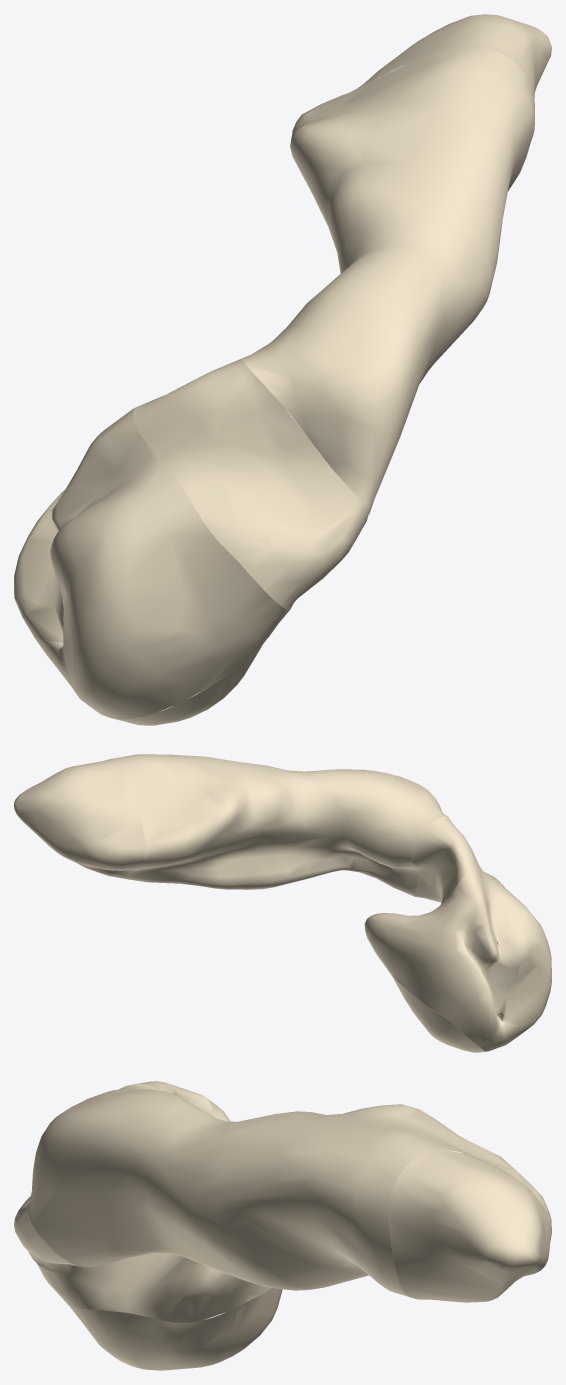
Rendered from pancreas.glb.
The picture shows the model from 3 angles, top to bottom: view 1: azimuth 30°, elevation 25°; view 2: azimuth 150°, elevation 25°; view 3: azimuth 270°, elevation 25°; orthographic projection. The views are drawn at different scales.
Parts seen in each view (by area): view 1: VH_M_body_of_pancreas, VH_M_head_of_pancreas, VH_M_neck_of_pancreas, VH_M_tail_of_pancreas, VH_M_uncinate_process_of_the_pancreas; view 2: VH_M_body_of_pancreas, VH_M_head_of_pancreas, VH_M_tail_of_pancreas, VH_M_neck_of_pancreas, VH_M_uncinate_process_of_the_pancreas; view 3: VH_M_body_of_pancreas, VH_M_tail_of_pancreas, VH_M_head_of_pancreas, VH_M_uncinate_process_of_the_pancreas, VH_M_neck_of_pancreas.
Boxes of the visible parts, x1,y1,x2,y2 form: VH_M_body_of_pancreas: (241, 46, 534, 515); VH_M_head_of_pancreas: (14, 408, 289, 719); VH_M_neck_of_pancreas: (133, 359, 369, 609); VH_M_tail_of_pancreas: (357, 14, 551, 98); VH_M_uncinate_process_of_the_pancreas: (111, 646, 261, 725); VH_M_body_of_pancreas: (112, 754, 447, 896); VH_M_head_of_pancreas: (364, 874, 551, 1051); VH_M_tail_of_pancreas: (14, 759, 145, 879); VH_M_neck_of_pancreas: (411, 816, 502, 903); VH_M_uncinate_process_of_the_pancreas: (392, 976, 484, 1052); VH_M_body_of_pancreas: (27, 1083, 519, 1297); VH_M_tail_of_pancreas: (388, 1149, 551, 1302); VH_M_head_of_pancreas: (37, 1095, 271, 1322); VH_M_uncinate_process_of_the_pancreas: (69, 1288, 282, 1370); VH_M_neck_of_pancreas: (14, 1081, 213, 1272).
Bounding box in the file's own units: 0.1114 × 0.072 × 0.0836.
